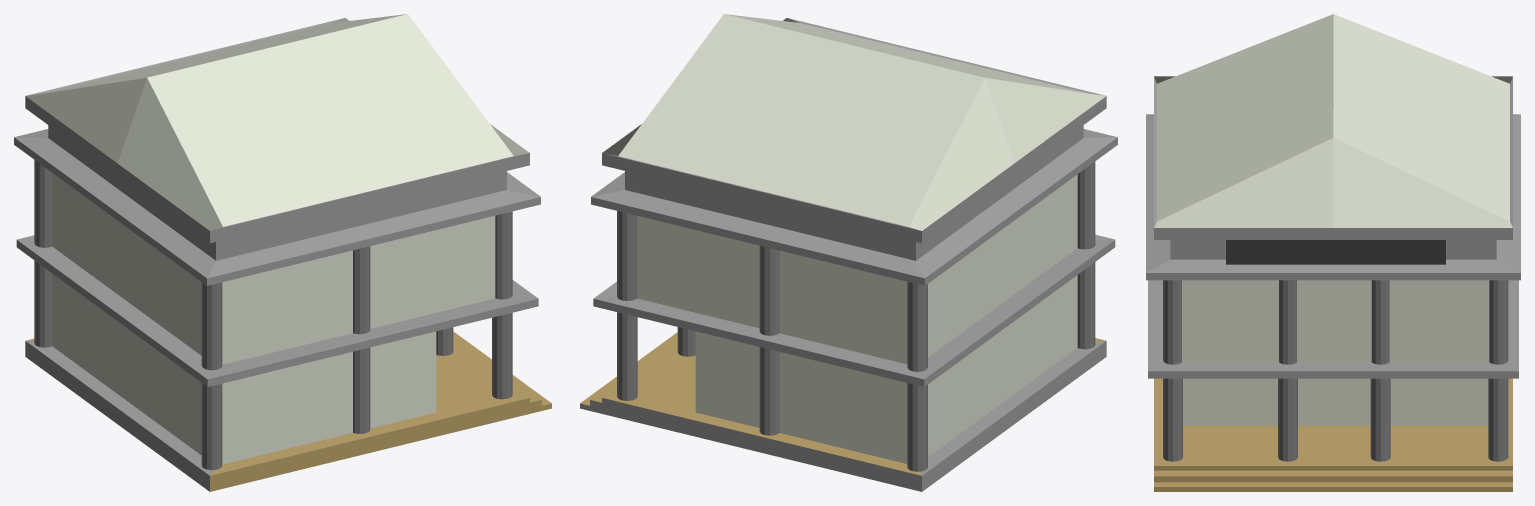
Rendered from museo.fbx.
3 views of the same model, side by side, from view 1: azimuth 30°, elevation 25°; view 2: azimuth 150°, elevation 25°; view 3: azimuth 270°, elevation 25° (orthographic). The views are drawn at different scales.
Visible parts, largest first — view 1: Cube.004, Cube.001, Cube, Cube.003, Cylinder.015, Cylinder.002, Cylinder, Cylinder.017, Cylinder.016, Cylinder.001, Cylinder.014, Cylinder.003; view 2: Cube.004, Cube.001, Cube, Cube.003, Cylinder.014, Cylinder.013, Cylinder.003, Cylinder.004, Cylinder.005, Cylinder.012, Cylinder.015, Cylinder.002; view 3: Cube.004, Cube.001, Cube, Cube.003, Cube.002, Cylinder.005, Cylinder.007, Cylinder.012, Cylinder, Cylinder.006, Cylinder.017, Cylinder.010 (+1 smaller).
Boxes of the visible parts, <box> form: Cube.004: <box>26,14,529,230</box>; Cube.001: <box>52,173,495,464</box>; Cube: <box>14,18,540,491</box>; Cube.003: <box>26,331,551,491</box>; Cylinder.015: <box>201,282,222,370</box>; Cylinder.002: <box>201,383,222,470</box>; Cylinder: <box>492,312,512,399</box>; Cylinder.017: <box>495,211,512,299</box>; Cylinder.016: <box>353,246,370,334</box>; Cylinder.001: <box>353,347,370,433</box>; Cylinder.014: <box>34,160,51,247</box>; Cylinder.003: <box>34,260,51,347</box>; Cube.004: <box>602,14,1105,230</box>; Cube.001: <box>637,174,1077,463</box>; Cube: <box>580,18,1117,491</box>; Cube.003: <box>580,332,1105,475</box>; Cylinder.014: <box>907,281,927,371</box>; Cylinder.013: <box>759,246,779,335</box>; Cylinder.003: <box>907,383,927,471</box>; Cylinder.004: <box>759,347,779,435</box>; Cylinder.005: <box>617,312,637,400</box>; Cylinder.012: <box>617,211,636,300</box>; Cylinder.015: <box>1077,161,1095,249</box>; Cylinder.002: <box>1077,262,1095,349</box>; Cube.004: <box>1154,14,1512,227</box>; Cube.001: <box>1182,280,1489,425</box>; Cube: <box>1146,77,1520,378</box>; Cube.003: <box>1154,378,1512,491</box>; Cube.002: <box>1226,240,1445,264</box>; Cylinder.005: <box>1488,378,1508,461</box>; Cylinder.007: <box>1370,378,1390,461</box>; Cylinder.012: <box>1489,280,1508,364</box>; Cylinder: <box>1163,378,1182,461</box>; Cylinder.006: <box>1278,378,1297,461</box>; Cylinder.017: <box>1163,280,1181,364</box>; Cylinder.010: <box>1371,280,1389,364</box>.
Size of the model in its own units: 218 by 203 by 209.
